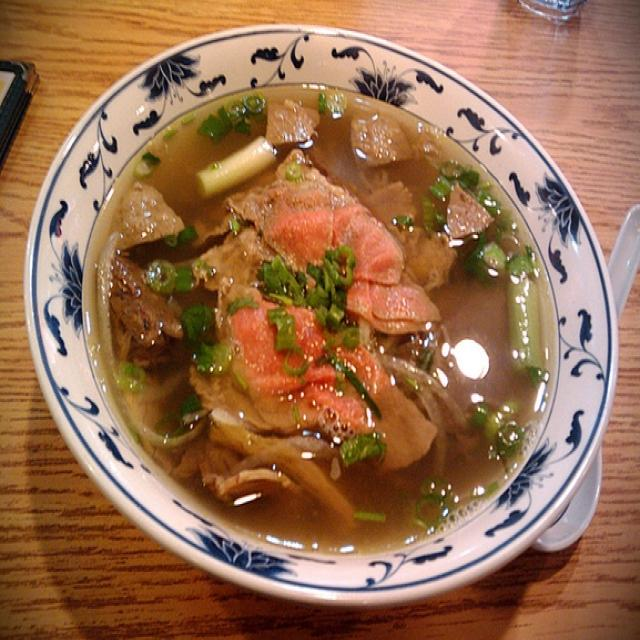面条主食: (60, 34, 608, 575)
